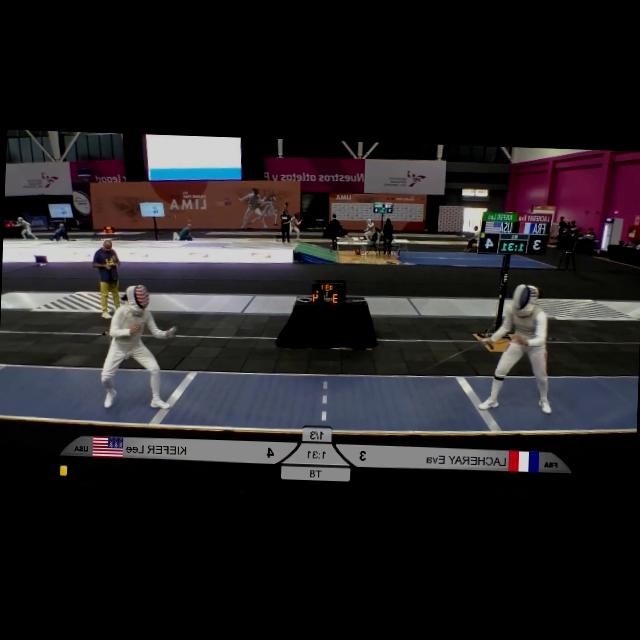blade: (410, 332, 488, 377)
